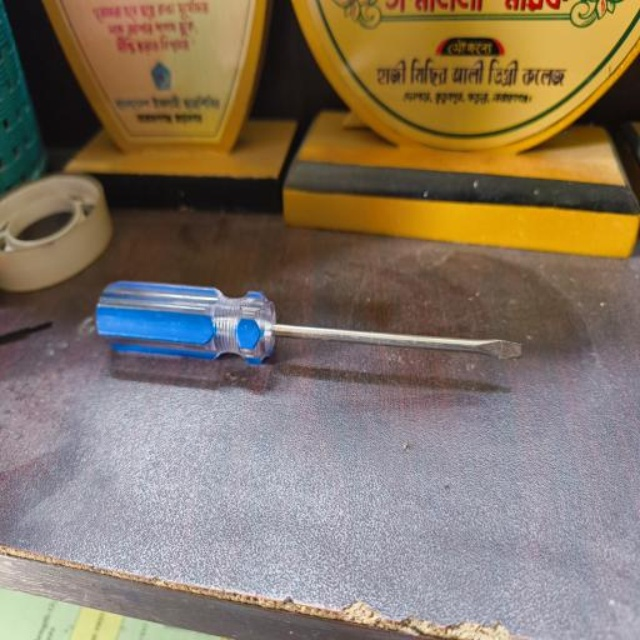screwdriver: (94, 272, 522, 371)
